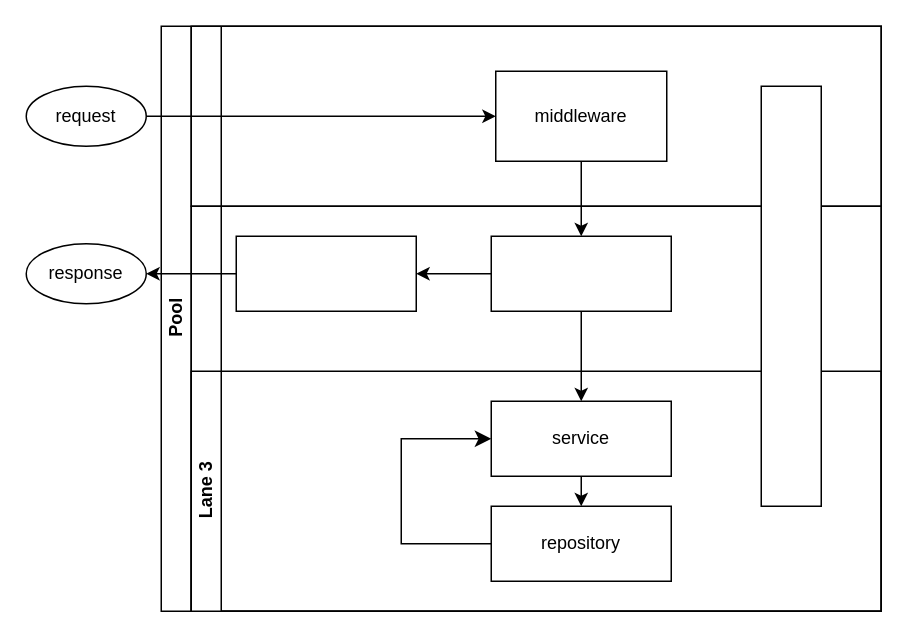
Image size: 908x638. Some labels were removed from this diagram. Each missing label, with the box of its shape:
Controller: (490, 235, 671, 311)
exception handler: (235, 235, 416, 311)
Lane 1: (190, 25, 881, 206)
Logger: (760, 85, 821, 506)
